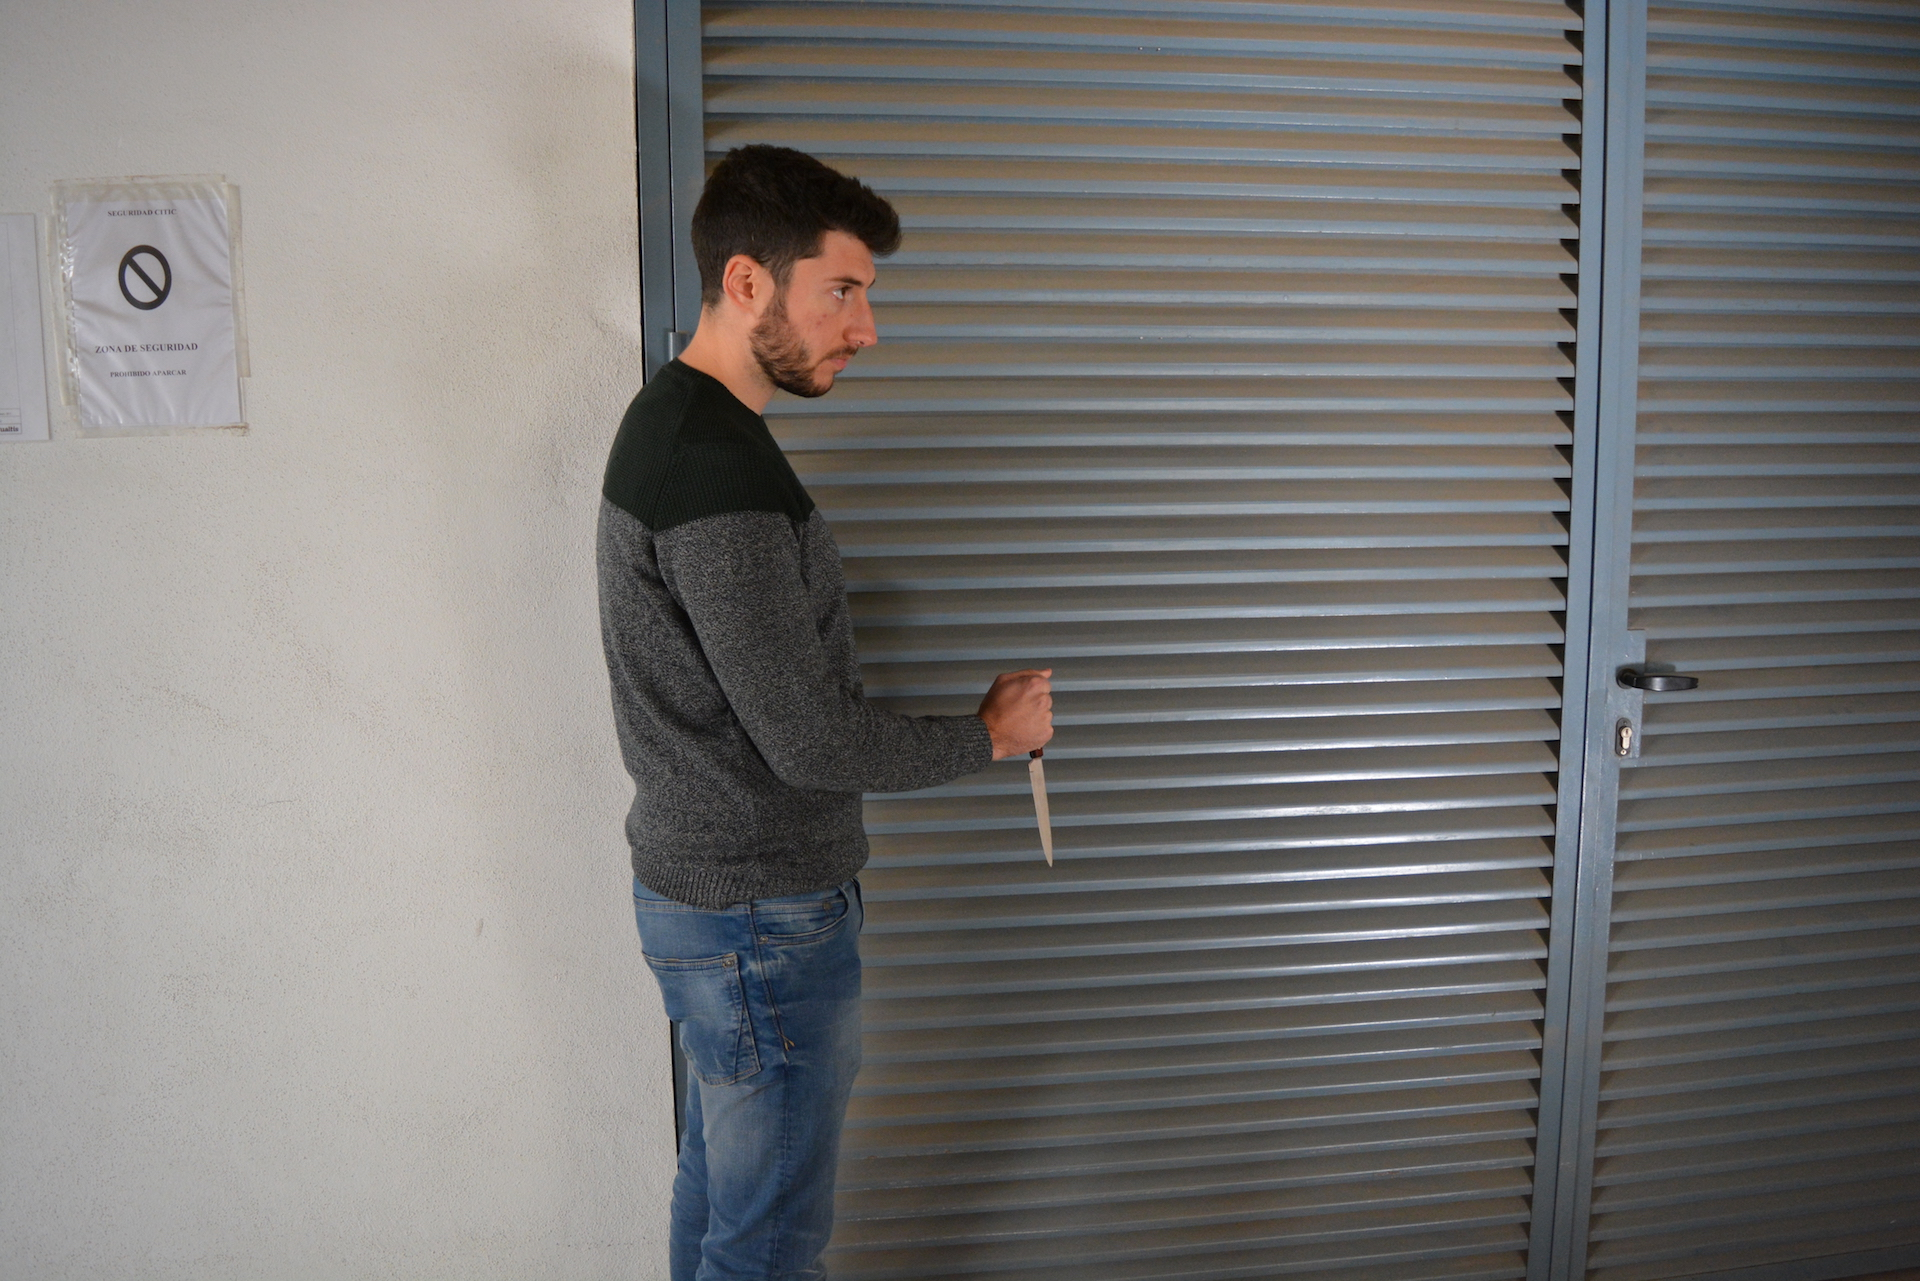knife: (1006, 703, 1074, 879)
